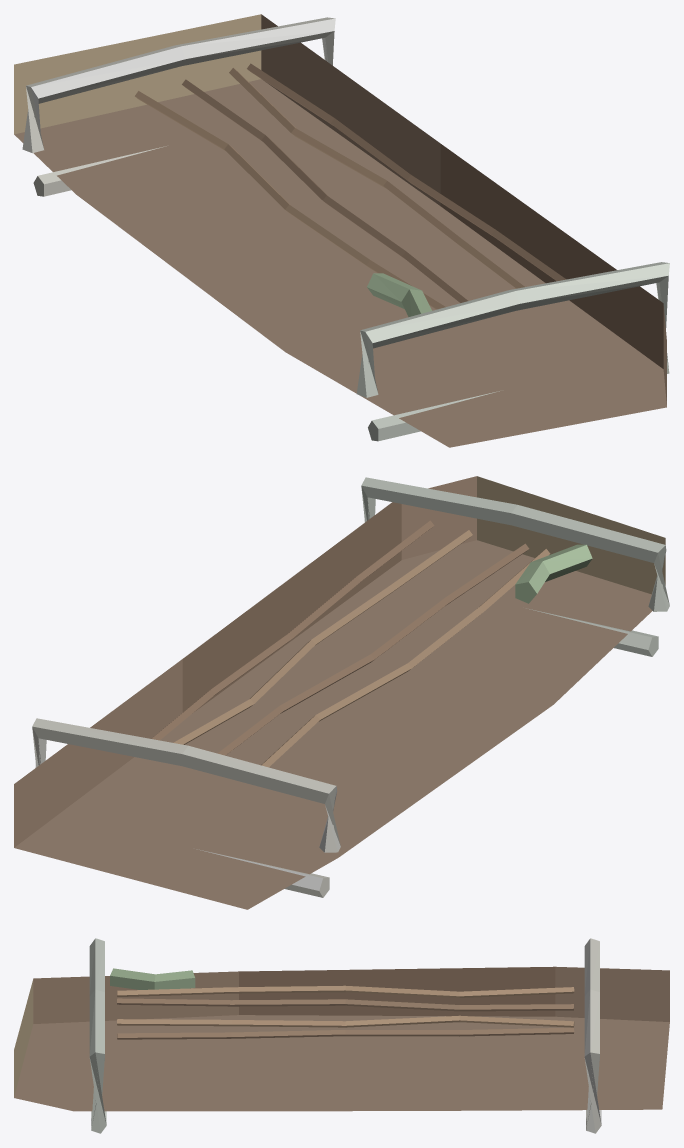
File: bark_plank_c.glb
3 renders of one model, top to bottom at view 1: azimuth 30°, elevation 25°; view 2: azimuth 150°, elevation 25°; view 3: azimuth 270°, elevation 25°, orthographic. The views are drawn at different scales.
Parts seen in each view (by area): view 1: FacetedPlank, SilkEdgeBinding2, SilkEdgeBinding1, WoodGrain4, WoodGrain3, WoodGrain2, WoodGrain1, MossTouch; view 2: FacetedPlank, SilkEdgeBinding2, SilkEdgeBinding1, WoodGrain2, WoodGrain3, WoodGrain4, WoodGrain1, MossTouch; view 3: FacetedPlank, WoodGrain3, WoodGrain2, WoodGrain1, WoodGrain4, SilkEdgeBinding1, SilkEdgeBinding2, MossTouch.
Boxes of the visible parts, box(x1,y1,x2,y2) form: FacetedPlank: box(14, 14, 666, 447); SilkEdgeBinding2: box(356, 262, 669, 441); SilkEdgeBinding1: box(22, 17, 335, 196); WoodGrain4: box(247, 63, 566, 281); WoodGrain3: box(229, 68, 524, 288); WoodGrain2: box(182, 79, 467, 302); WoodGrain1: box(135, 91, 445, 309); MossTouch: box(367, 273, 431, 335); FacetedPlank: box(14, 476, 665, 909); SilkEdgeBinding2: box(361, 477, 669, 656); SilkEdgeBinding1: box(32, 718, 340, 897); WoodGrain2: box(217, 543, 529, 755); WoodGrain3: box(173, 530, 472, 744); WoodGrain4: box(151, 520, 434, 740); WoodGrain1: box(261, 549, 550, 767); MossTouch: box(515, 544, 592, 603); FacetedPlank: box(14, 966, 669, 1111); WoodGrain3: box(117, 1015, 574, 1027); WoodGrain2: box(117, 998, 573, 1011); WoodGrain1: box(117, 985, 574, 997); WoodGrain4: box(117, 1027, 574, 1039); SilkEdgeBinding1: box(584, 938, 601, 1133); SilkEdgeBinding2: box(89, 938, 106, 1133); MossTouch: box(110, 968, 195, 989).
Bounding box in the file's own units: 0.2782 × 0.1038 × 0.6892.
